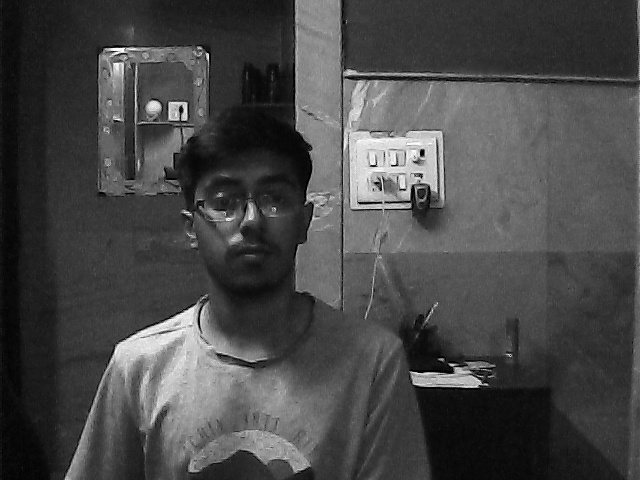nomask: (188, 143, 318, 297)
